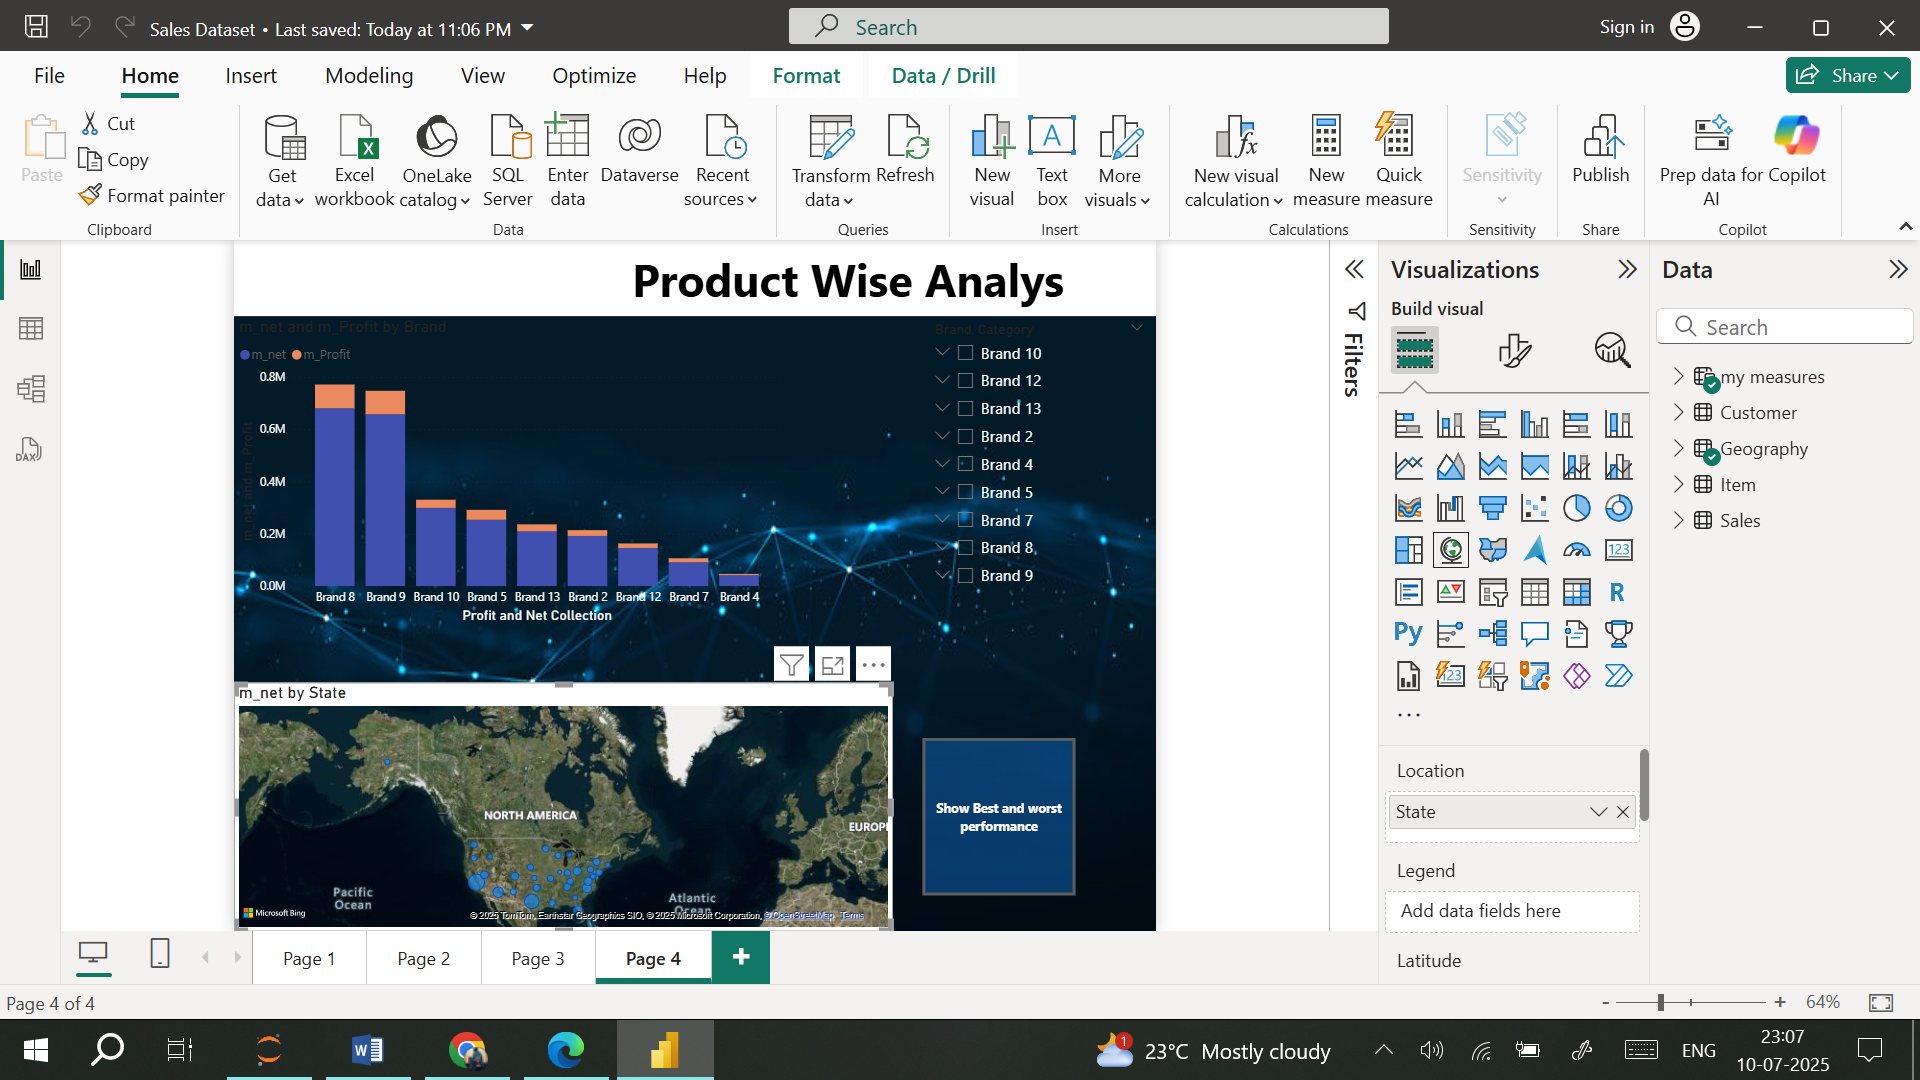

The page's visual inventory and layout, read from the dashboard file:
{"tool":"powerbi","page":{"name":"Page 4","canvas":[960,720],"ordinal":3},"visuals":[{"type":"shape","box":[0,0,1279.6,79.6],"z":0},{"type":"columnChart","fields":{"Y":["my measures.m_net","my measures.m_Profit"],"Category":["Item.Brand"]},"box":[0,79.7,573.4,323.4],"z":1000},{"type":"slicer","fields":{"Values":["Item.Category"]},"box":[1088.9,79.6,190.7,209.3],"z":2000},{"type":"map","fields":{"Category":["Geography.State"],"Size":["my measures.m_net"]},"box":[0,460.9,685.9,259.4],"z":3000},{"type":"slicer","fields":{"Values":["Item.Brand","Item.Category"]},"box":[717.2,79.7,242.2,323.4],"z":4000},{"type":"actionButton","box":[717.2,518.8,159.4,164.1],"z":5000}]}

Visuals, with their boxes on the page's 960x720 design canvas (x1, y1, x2, y2). These are canvas units, not pixel positions in the 1920x1080 screenshot, which may show the page scaled, cropped or inside an application window:
shape: (x1=0, y1=0, x2=1280, y2=80)
columnChart - my measures.m_net x my measures.m_Profit: (x1=0, y1=80, x2=573, y2=403)
slicer - Item.Category: (x1=1089, y1=80, x2=1280, y2=289)
map - Geography.State x my measures.m_net: (x1=0, y1=461, x2=686, y2=720)
slicer - Item.Brand x Item.Category: (x1=717, y1=80, x2=959, y2=403)
actionButton: (x1=717, y1=519, x2=877, y2=683)
